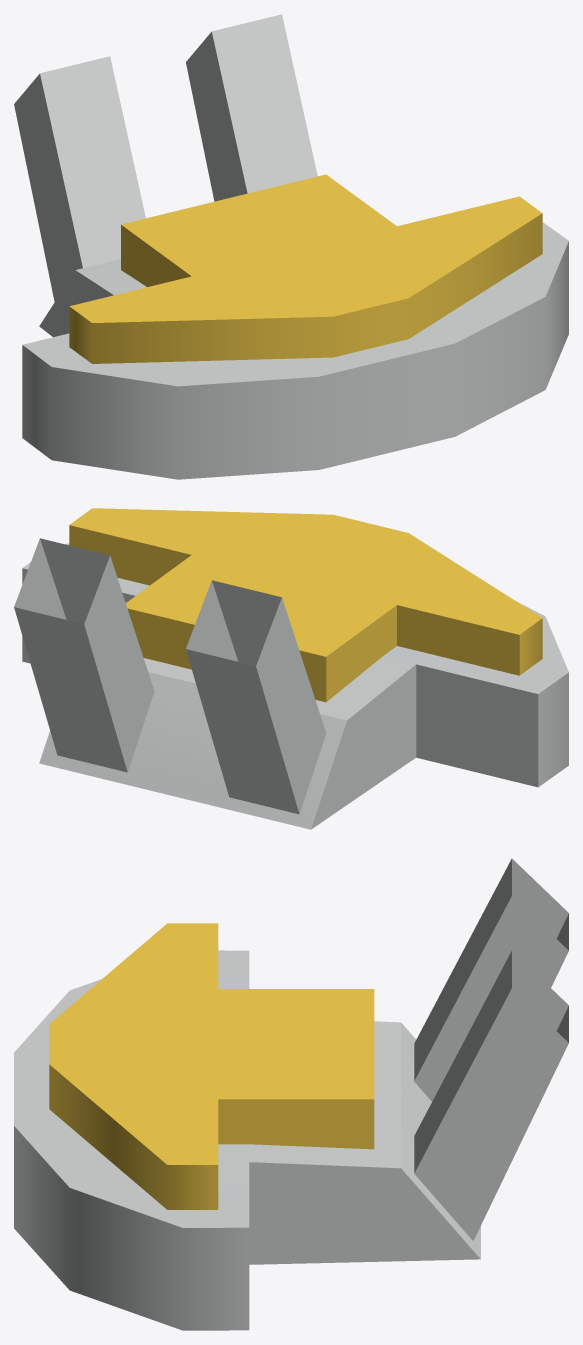
Rendered from mower (1).FBX.
3 views of the same model, one above another, from view 1: azimuth 30°, elevation 25°; view 2: azimuth 150°, elevation 25°; view 3: azimuth 270°, elevation 25° (orthographic). The views are drawn at different scales.
Parts seen in each view (by area): view 1: Mower; view 2: Mower; view 3: Mower.
Part boxes in pixels (x1=…): Mower: x1=14, y1=14, x2=568, y2=479; Mower: x1=14, y1=508, x2=568, y2=829; Mower: x1=14, y1=858, x2=568, y2=1330.
Bounding box in the file's own units: 132 × 59.61 × 112.
